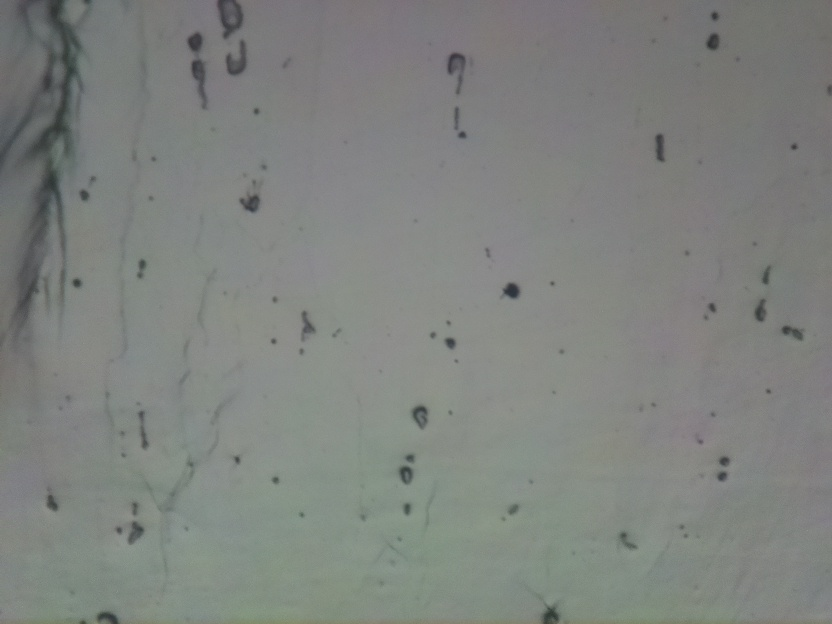crack: (2, 0, 80, 338)
